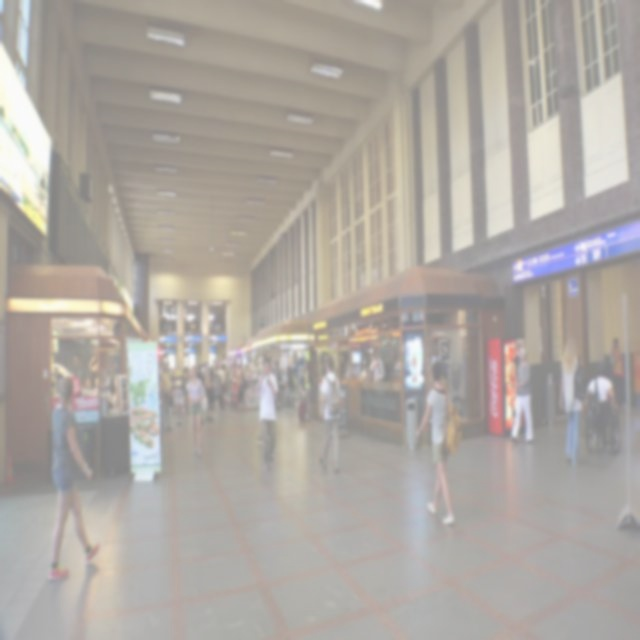pessoa: (48, 374, 102, 582), (413, 357, 463, 527), (558, 332, 588, 468), (583, 357, 619, 448), (254, 356, 280, 472), (317, 352, 341, 475), (508, 346, 534, 446), (186, 362, 208, 458), (85, 356, 100, 458), (609, 336, 627, 411), (200, 360, 216, 424), (159, 362, 173, 434), (302, 357, 312, 423), (172, 380, 186, 427), (282, 364, 296, 409), (368, 346, 384, 384), (222, 367, 235, 412), (181, 363, 192, 416), (238, 360, 248, 413), (236, 360, 246, 412), (216, 363, 226, 413), (158, 359, 164, 432), (346, 357, 362, 380), (214, 370, 222, 412), (195, 362, 205, 390), (256, 430, 266, 446), (274, 392, 281, 410), (166, 360, 171, 380), (215, 360, 218, 372)
